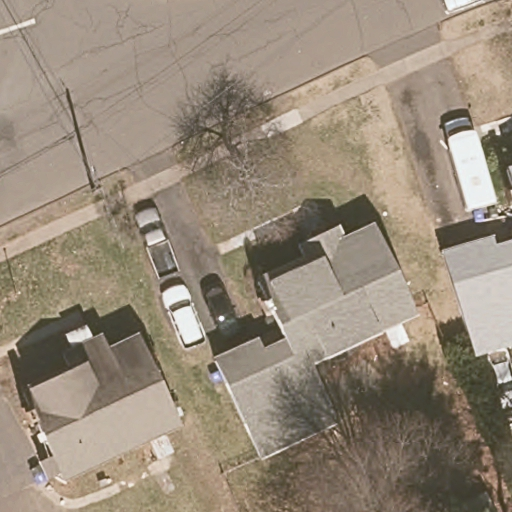DT: (86, 164, 105, 196)
